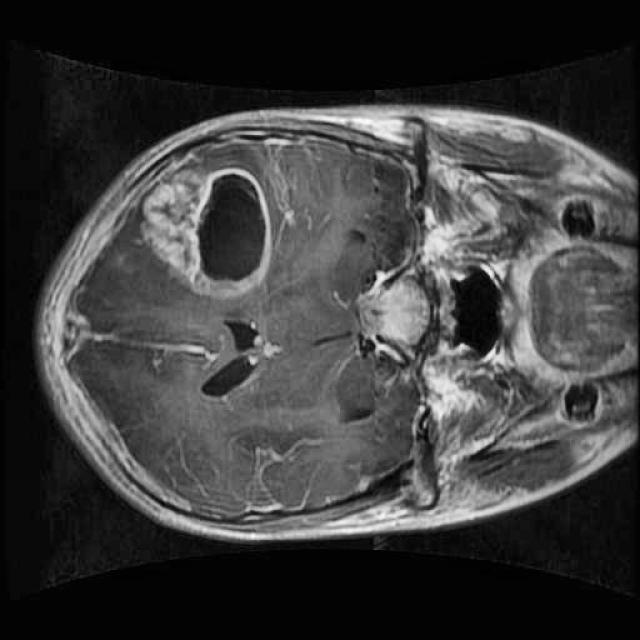Tumor: (134, 158, 296, 306)
